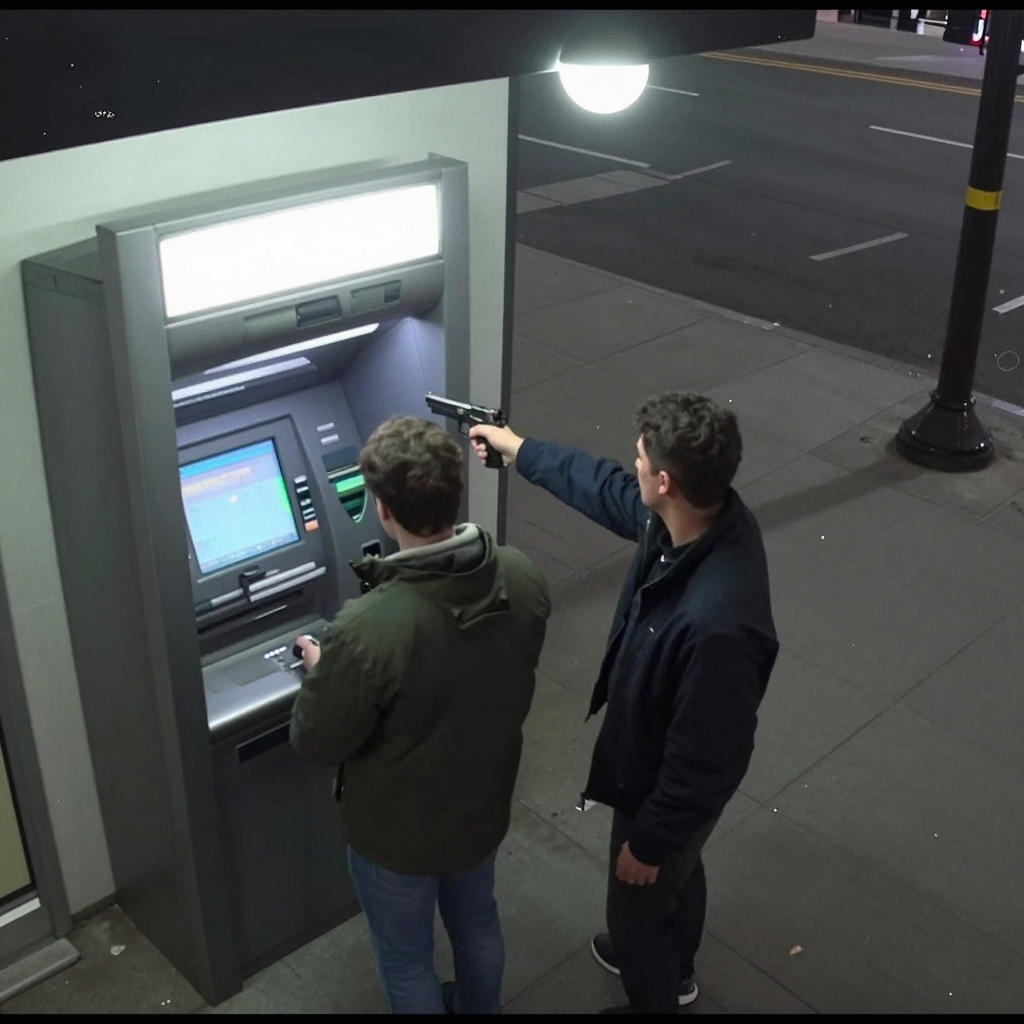Robbery: (464, 390, 781, 1013), (289, 415, 553, 1015)
Shooting: (425, 392, 508, 469)
